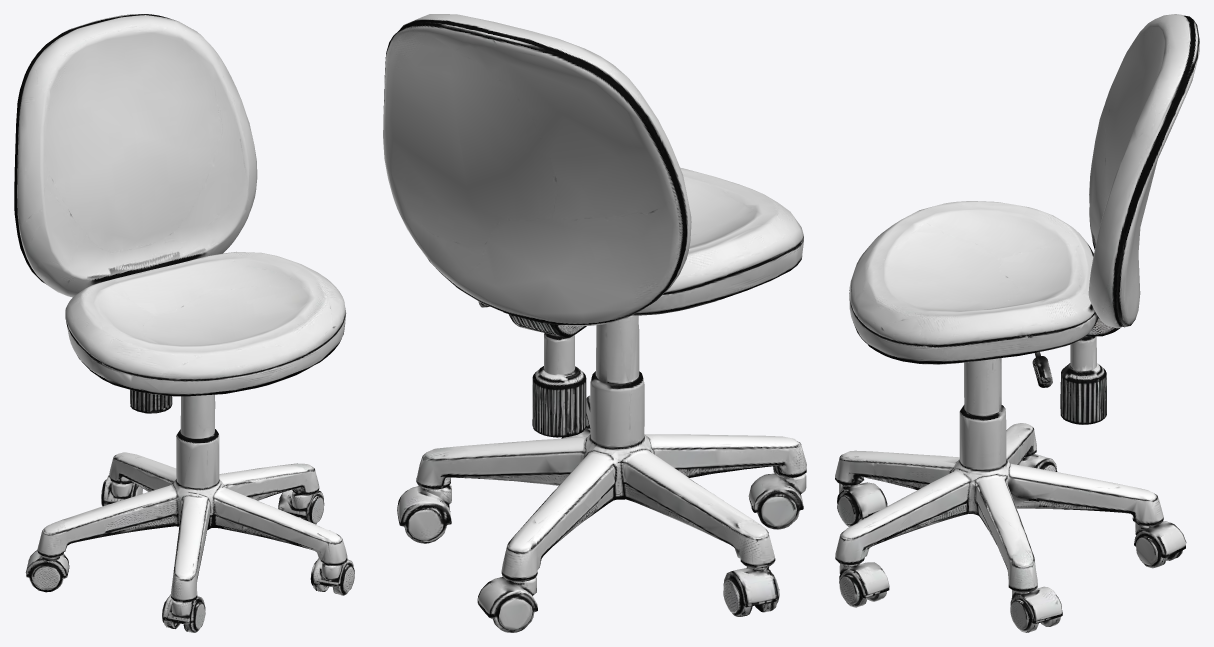
The model's file is model-13-office-chair.glb.
The picture shows the model from 3 angles, left to right: view 1: azimuth 30°, elevation 25°; view 2: azimuth 150°, elevation 25°; view 3: azimuth 270°, elevation 25°; orthographic projection. The views are drawn at different scales.
Visible parts, largest first — view 1: node_0; view 2: node_0; view 3: node_0.
Boxes of the visible parts, x1,y1,x2,y2 form: node_0: (14,14,354,632); node_0: (383,14,806,632); node_0: (835,14,1199,632).
Size of the model in its own units: 0.6438 by 0.9878 by 0.6238.
1 material, 1 textured.
